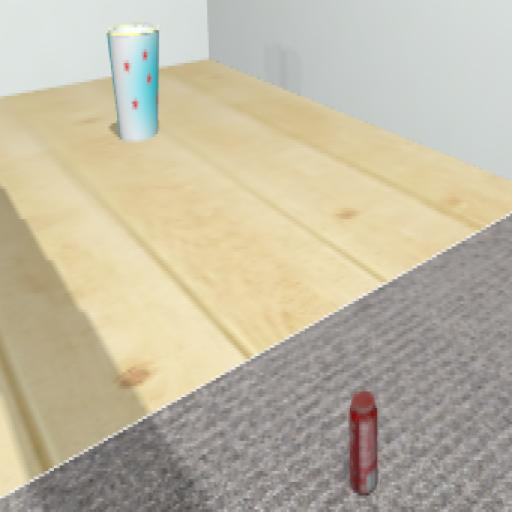COCA: (299, 344, 403, 506)
Trash: (99, 22, 179, 173)
